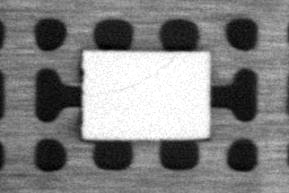DIE_CRACK: (114, 56, 175, 93)
